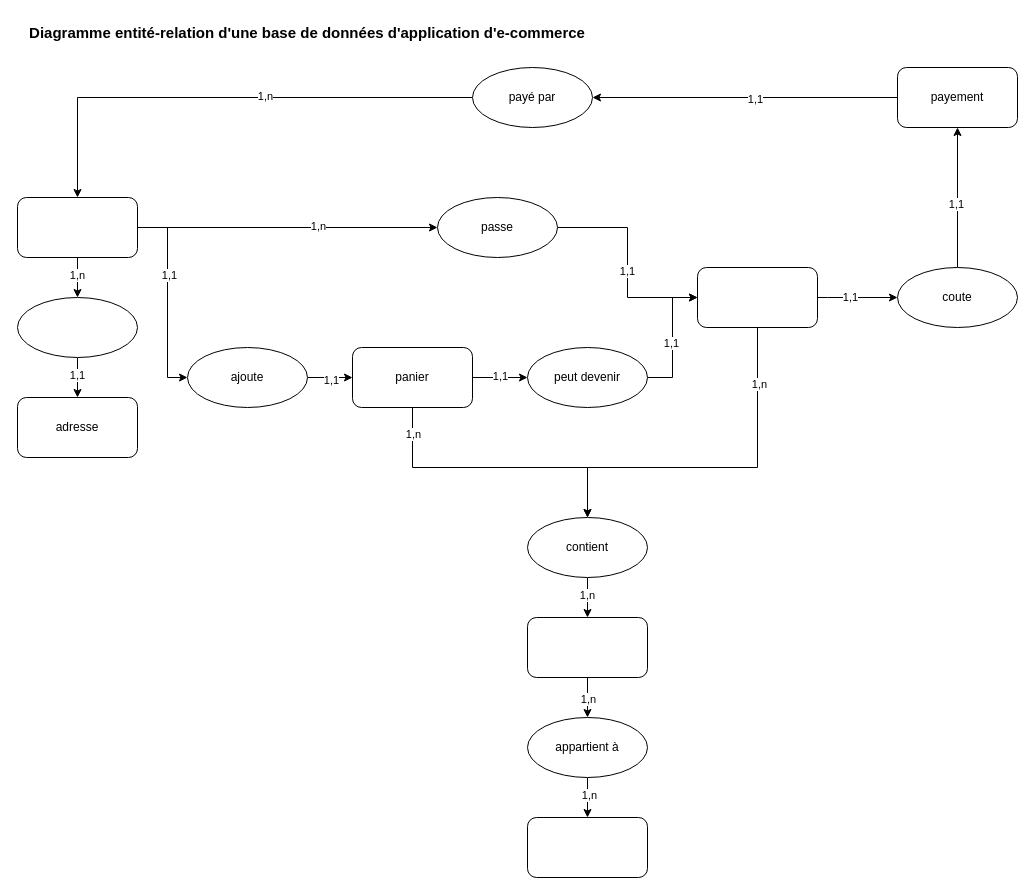
The diagram is 1035 pixels wide and 895 high, and some of its shapes have lost their labels. The shapes that lost their labels are listed below. From the top down, each one's centre as x and y in pixels, then its label:
point 77,227: client
point 757,297: commande
point 77,327: habite
point 587,647: produits
point 587,847: catégorie
